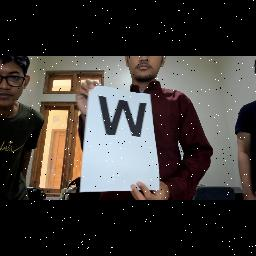w: (96, 94, 154, 142)
